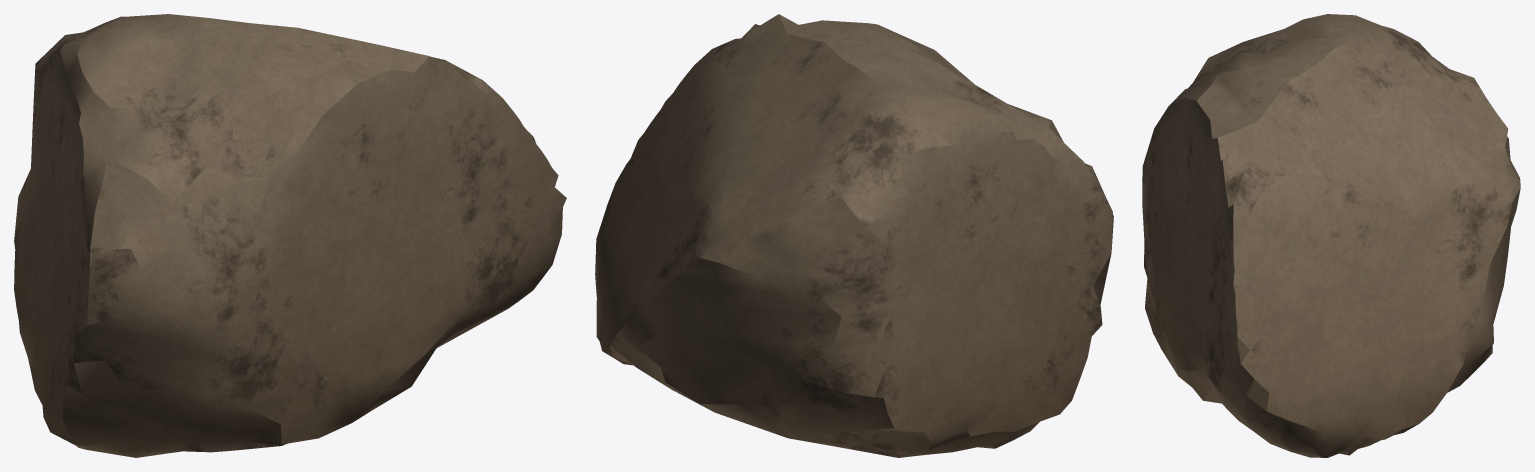
File: prop_boulder2.glb
3 views of the same model, side by side, from view 1: azimuth 30°, elevation 25°; view 2: azimuth 150°, elevation 25°; view 3: azimuth 270°, elevation 25° (orthographic). The views are drawn at different scales.
Visible parts, largest first — view 1: BoulderMesh; view 2: BoulderMesh; view 3: BoulderMesh.
Boxes of the visible parts, <box> form: BoulderMesh: <box>14,14,566,457</box>; BoulderMesh: <box>595,14,1113,457</box>; BoulderMesh: <box>1142,14,1520,457</box>.
Bounding box in the file's own units: 1.81 × 1.36 × 1.35.
Materials: 1 (1 with a texture image).
